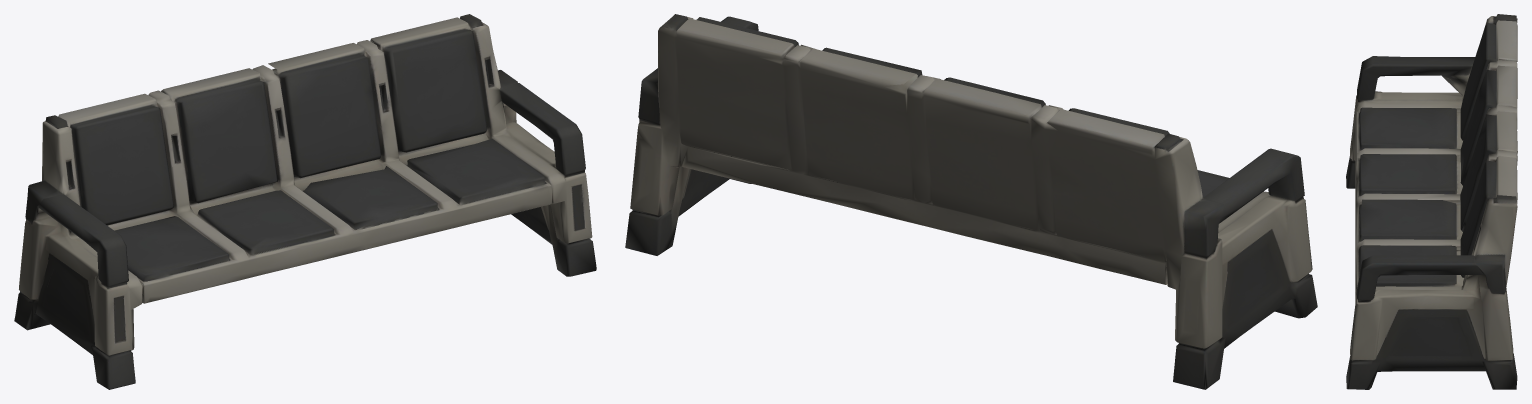
The model's file is ENV_ALL_107_v001_RAW.glb.glb.
3 renders of one model, left to right at view 1: azimuth 30°, elevation 25°; view 2: azimuth 150°, elevation 25°; view 3: azimuth 270°, elevation 25°, orthographic. The views are drawn at different scales.
Parts seen in each view (by area): view 1: tripo_node_a001432e-4e29-446c-a105-829979eec490; view 2: tripo_node_a001432e-4e29-446c-a105-829979eec490; view 3: tripo_node_a001432e-4e29-446c-a105-829979eec490.
Boxes of the visible parts, x1,y1,x2,y2 form: tripo_node_a001432e-4e29-446c-a105-829979eec490: (14,14,596,389); tripo_node_a001432e-4e29-446c-a105-829979eec490: (625,14,1317,389); tripo_node_a001432e-4e29-446c-a105-829979eec490: (1346,14,1517,389).
Size of the model in its own units: 0.9795 by 0.3785 by 0.3321.
Materials: 1 (1 with a texture image).
